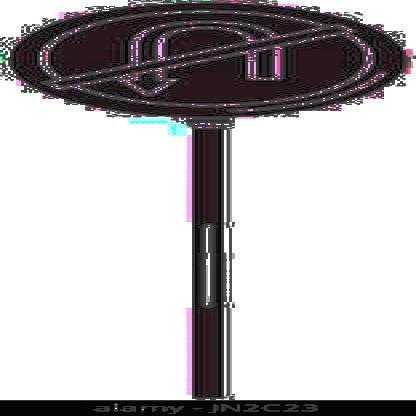No U-turn: (15, 0, 416, 117)
